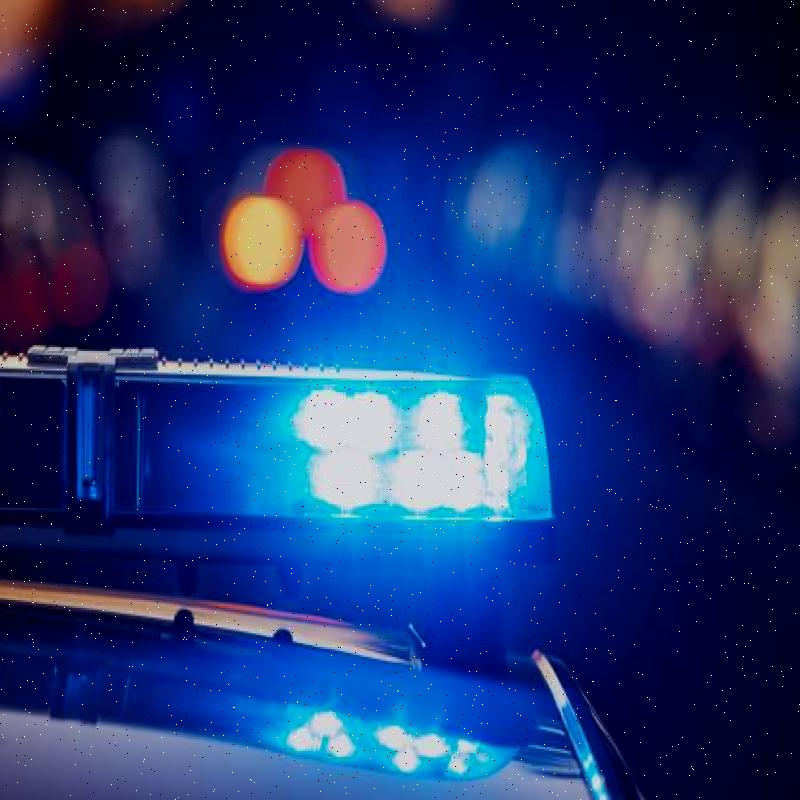AmbulanceSiren: (0, 307, 565, 594)
